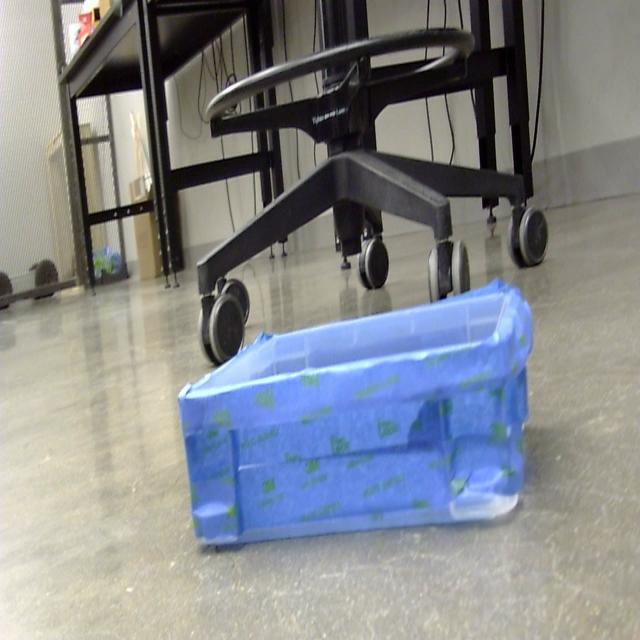bucket: (176, 281, 534, 554)
